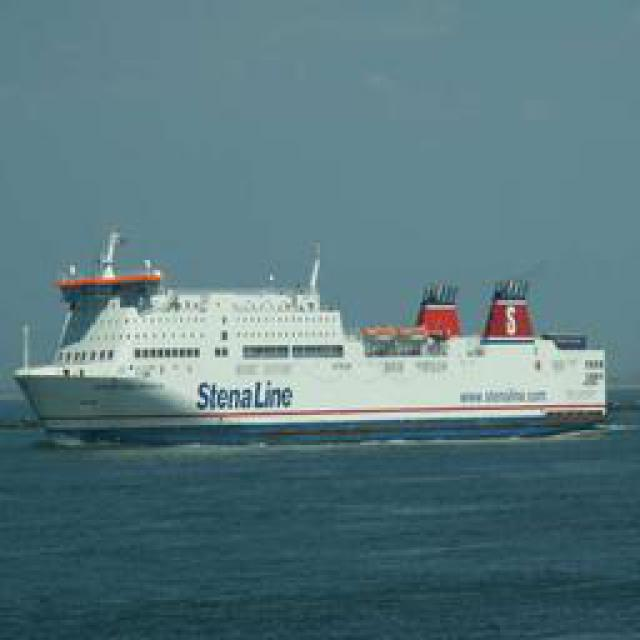Ship: (20, 229, 610, 442)
